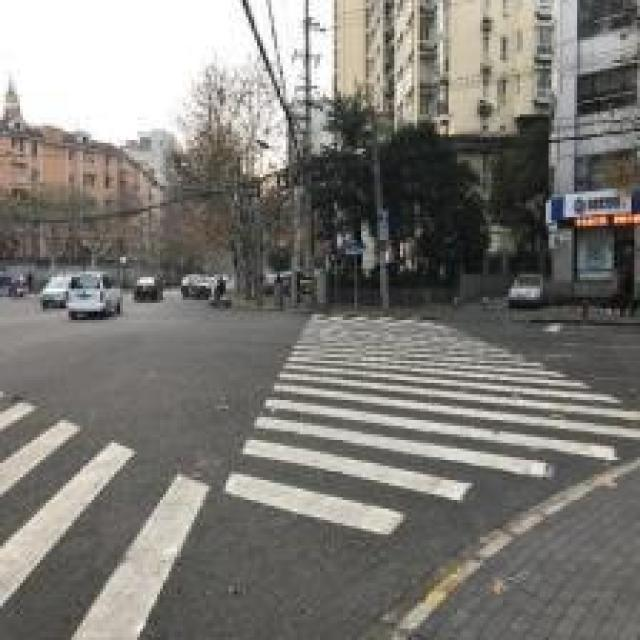crosswalk: (214, 305, 640, 556), (1, 365, 227, 640)
